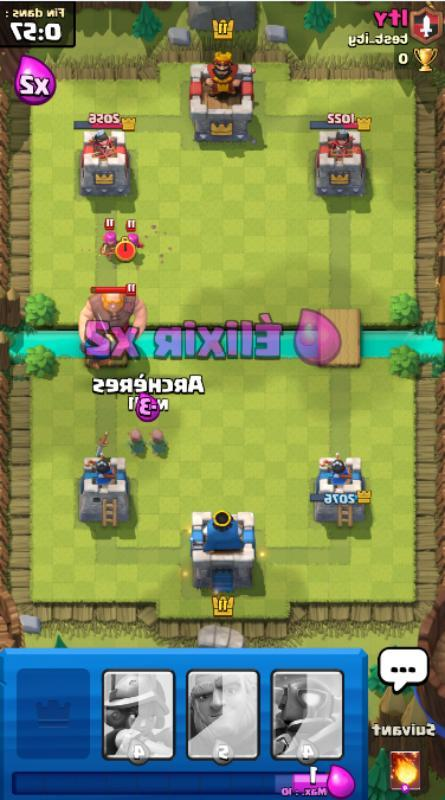archere: (122, 219, 145, 262), (99, 219, 119, 261), (148, 429, 169, 460), (127, 428, 145, 459)
chevalier: (80, 312, 118, 367)
geant: (77, 284, 147, 356)
